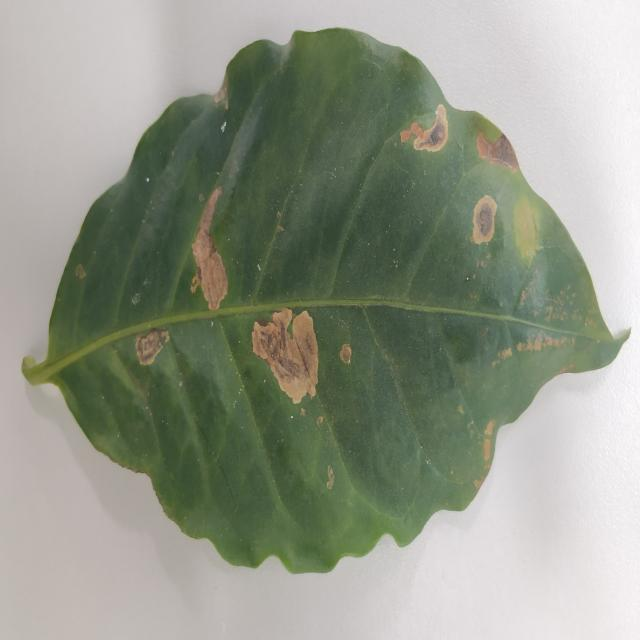Plaga-Minador: (21, 28, 626, 576)
